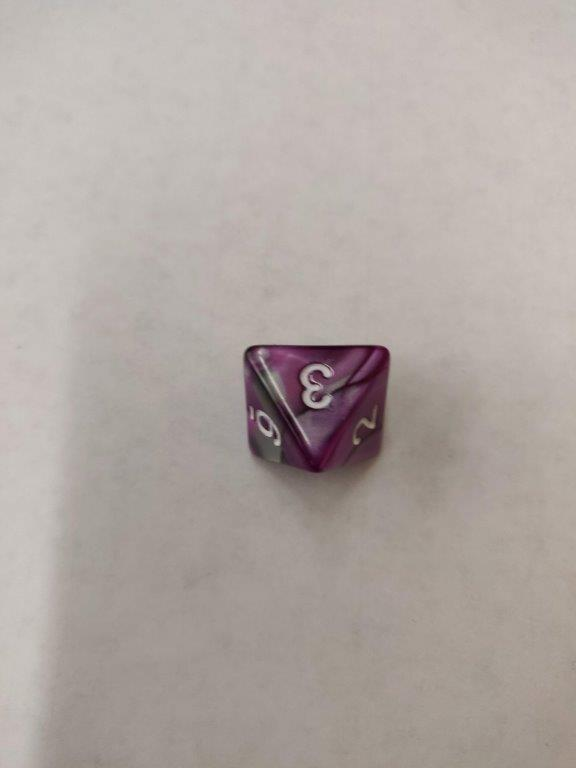d8-3: (243, 342, 388, 467)
